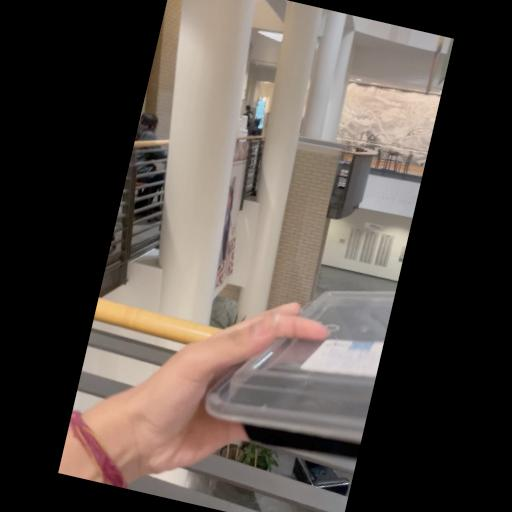rigid_plastic_container: (200, 258, 394, 466)
